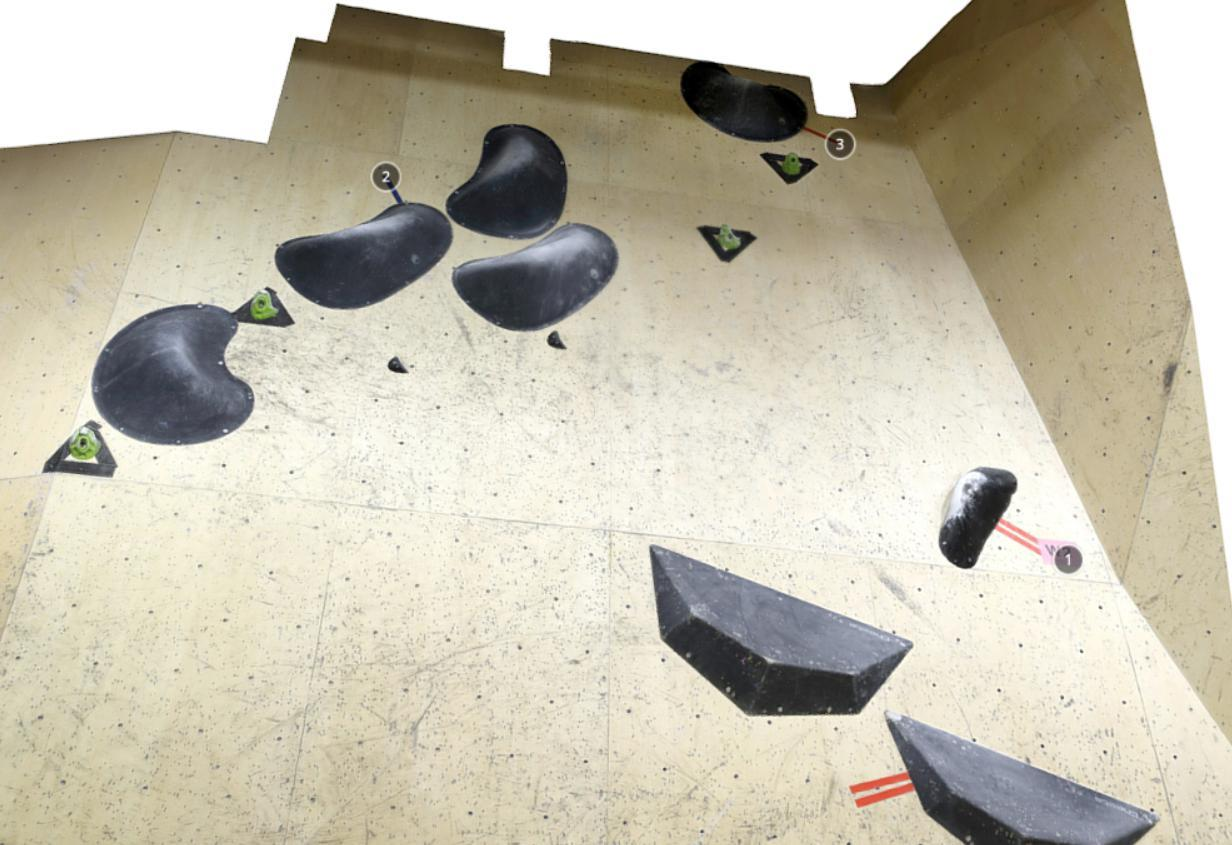hold: (92, 303, 255, 445), (274, 204, 454, 310), (452, 222, 620, 331), (446, 123, 568, 240), (681, 61, 807, 143), (938, 464, 1019, 568), (41, 419, 119, 477), (231, 285, 295, 328), (697, 223, 757, 263), (759, 151, 819, 185), (546, 330, 568, 349), (387, 356, 410, 373)
volume: (649, 543, 916, 716), (884, 712, 1165, 845)
